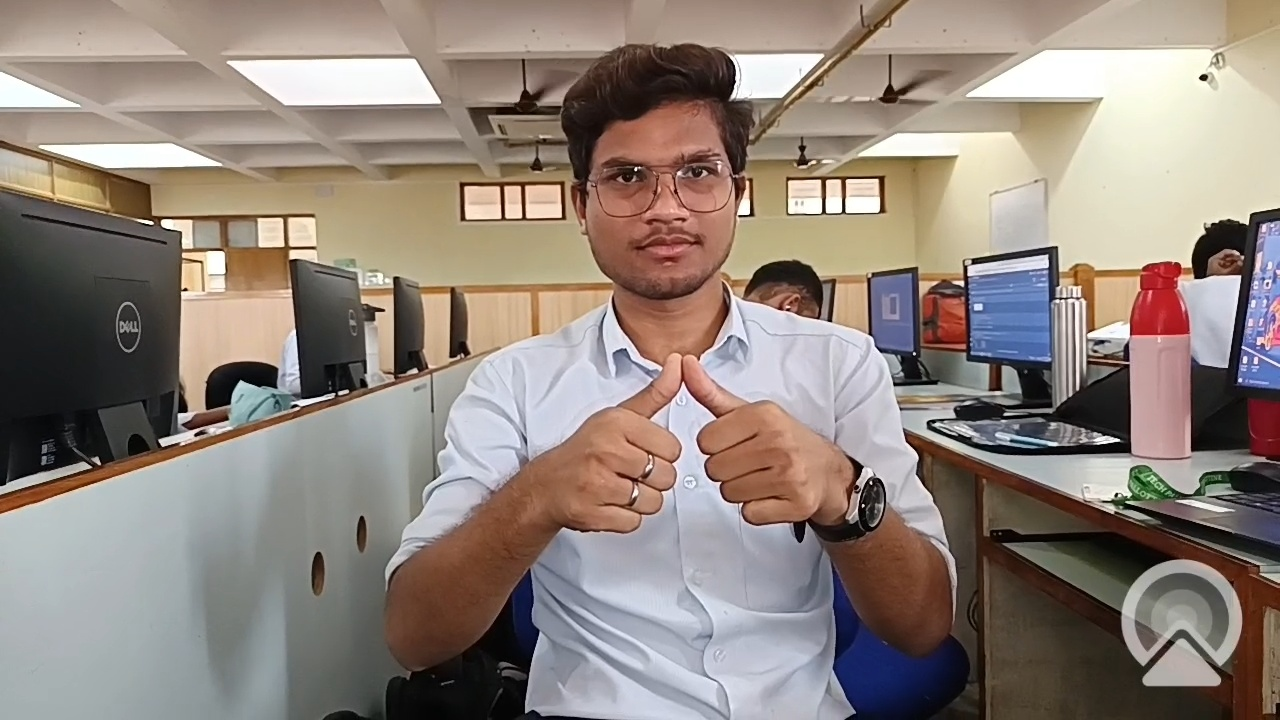A: (512, 321, 883, 589)
